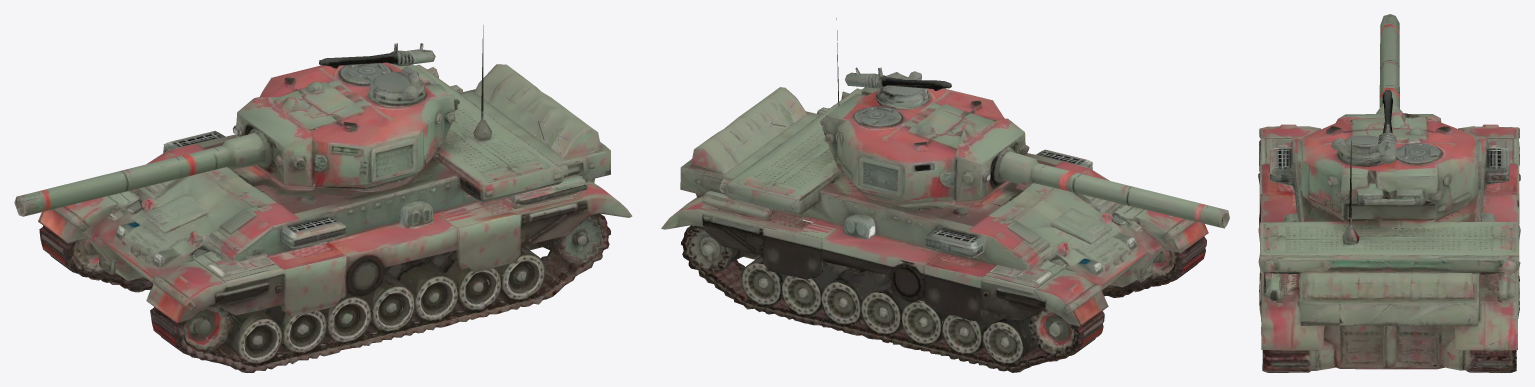
Rendered from tank.glb.
3 views of the same model, side by side, from view 1: azimuth 30°, elevation 25°; view 2: azimuth 150°, elevation 25°; view 3: azimuth 270°, elevation 25° (orthographic). The views are drawn at different scales.
Visible parts, largest first — view 1: Mesh1.0; view 2: Mesh1.0; view 3: Mesh1.0.
Part boxes in pixels (x1,y1,x2,y2): Mesh1.0: (14, 25, 632, 372); Mesh1.0: (661, 18, 1229, 372); Mesh1.0: (1258, 14, 1520, 372).
Bounding box in the file's own units: 1.91 × 0.8674 × 0.8702.
1 material, 1 textured.
